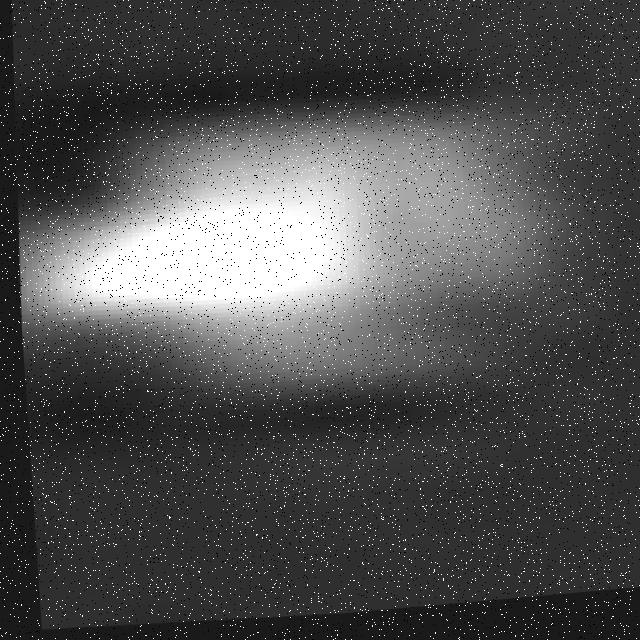person: (8, 92, 598, 423)
